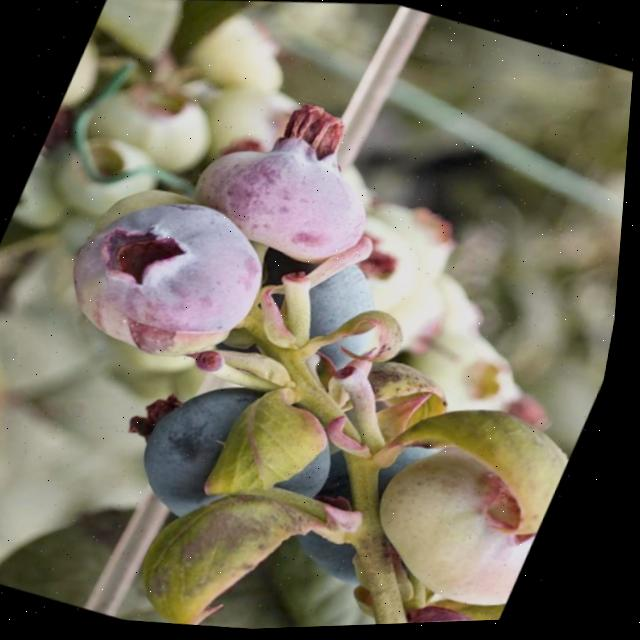Semi-RipeBlueBerry: (45, 159, 298, 385), (173, 65, 420, 284)
